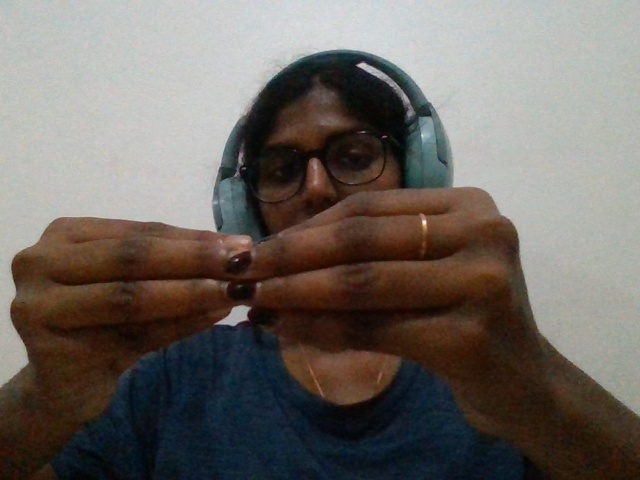More: (7, 164, 597, 442)
